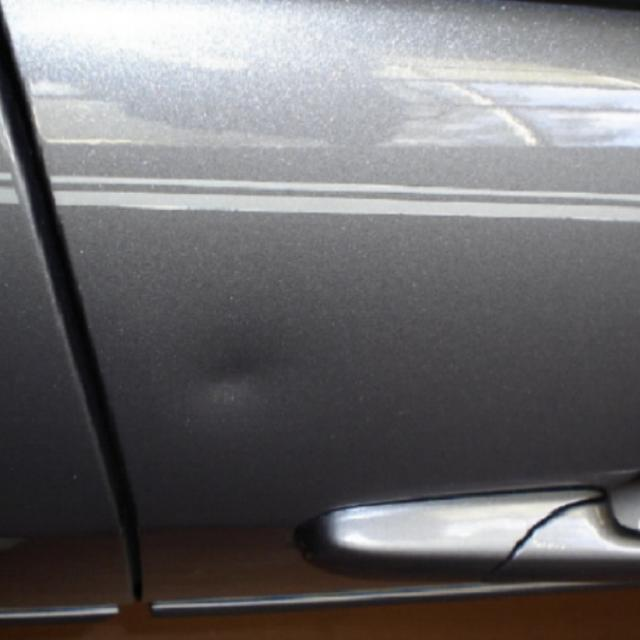dents: (179, 353, 289, 437)
